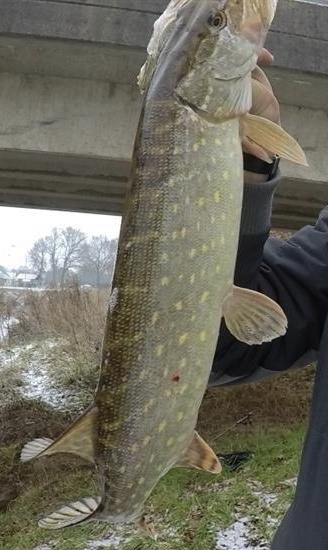Esox lucius: (20, 1, 308, 530)
